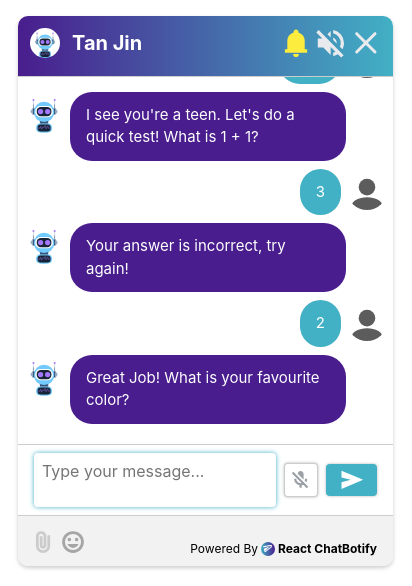
Scenario: Chat Bot Test Suite › Sends favorite color and verifies bot reply
(page scrolled)
In the text box with placeholder "Type your message...": (155, 480) x1=34 y1=453 x2=276 y2=507, type "red"
Then press Enter
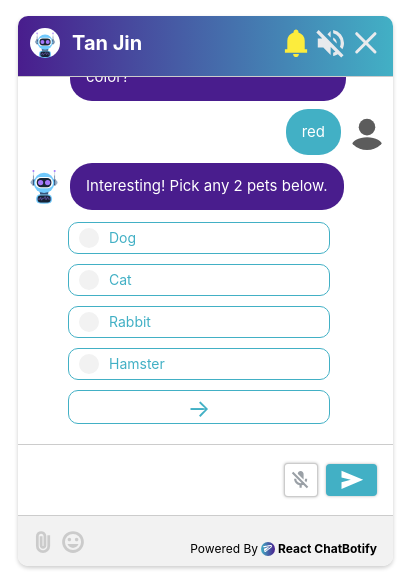
Expected: the text "Interesting! Pick any 2 pets below." is shown, x1=70 y1=163 x2=344 y2=210
